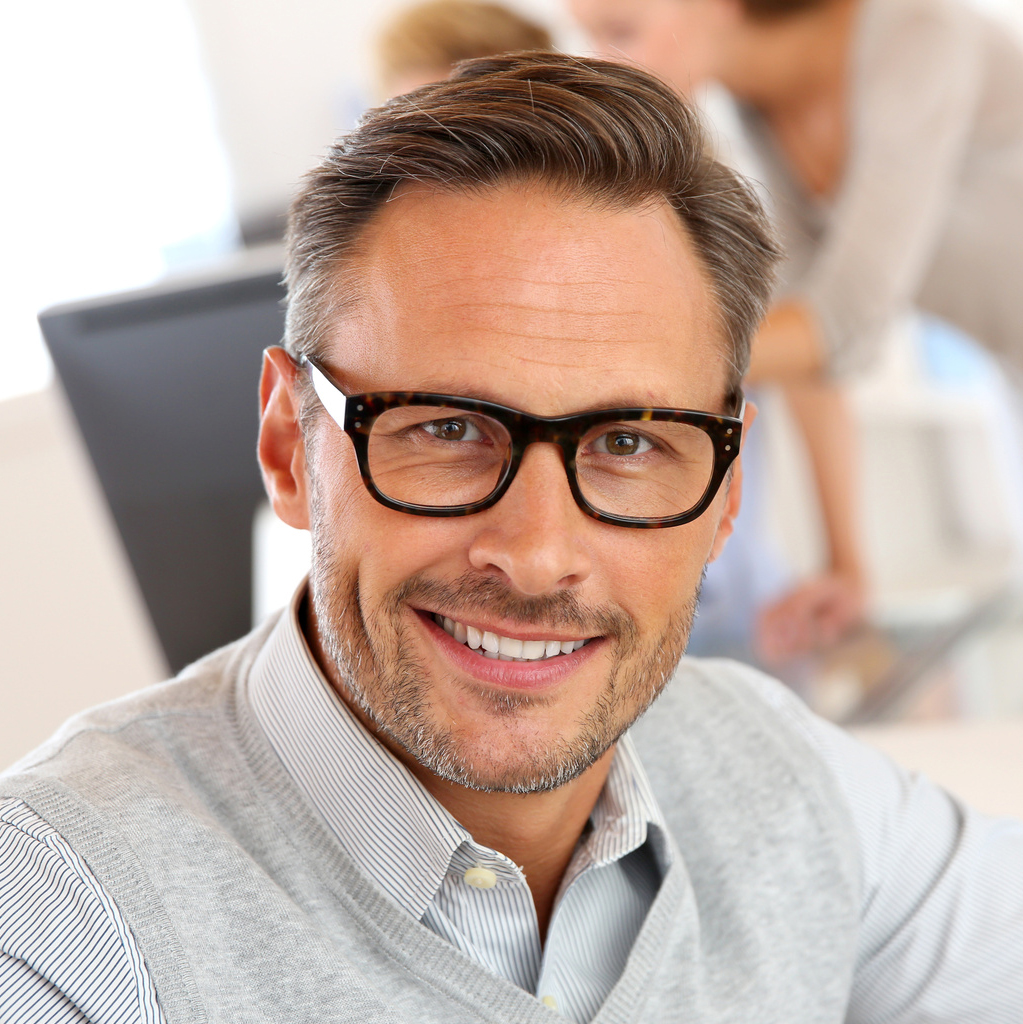glasses: (298, 356, 752, 544)
